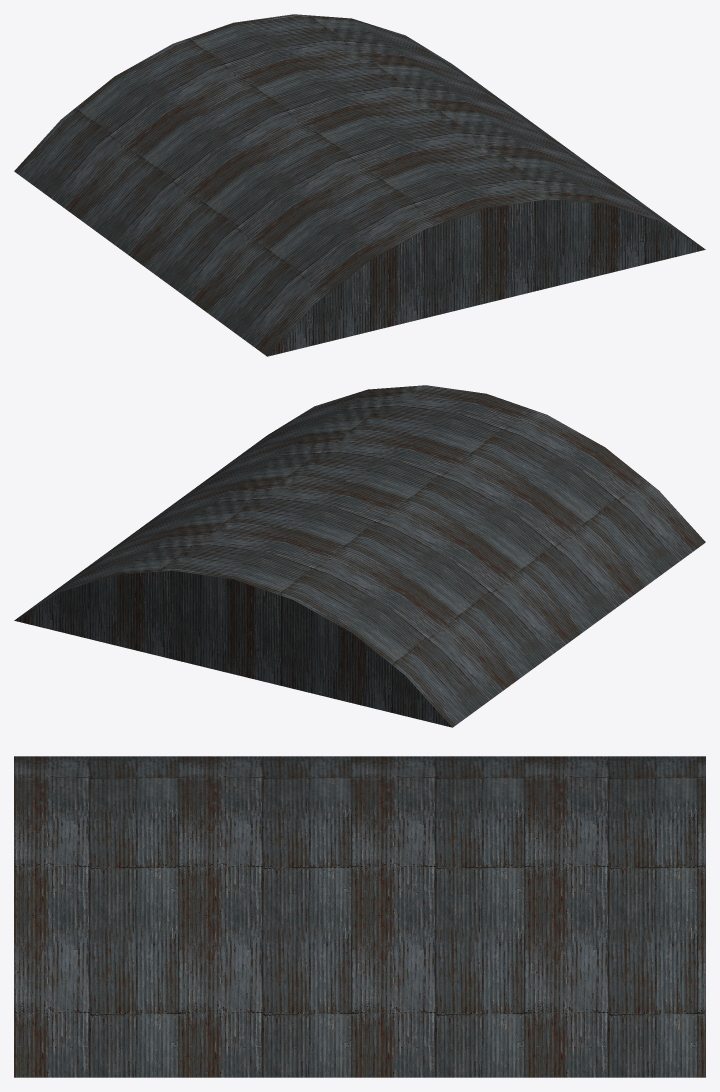
Rendered from warehouse_hs_1_roof_1.glb.
The picture shows the model from 3 angles, top to bottom: view 1: azimuth 30°, elevation 25°; view 2: azimuth 150°, elevation 25°; view 3: azimuth 270°, elevation 25°; orthographic projection. The views are drawn at different scales.
Parts seen in each view (by area): view 1: warehouse_hs_1_roof_1; view 2: warehouse_hs_1_roof_1; view 3: warehouse_hs_1_roof_1.
Part boxes in pixels (box(x1,y1,x2,y2)): warehouse_hs_1_roof_1: box(14, 14, 705, 356); warehouse_hs_1_roof_1: box(14, 385, 705, 727); warehouse_hs_1_roof_1: box(14, 756, 705, 1077).
Bounding box in the file's own units: 8 × 1.66 × 8.
2 materials, 2 textured.
